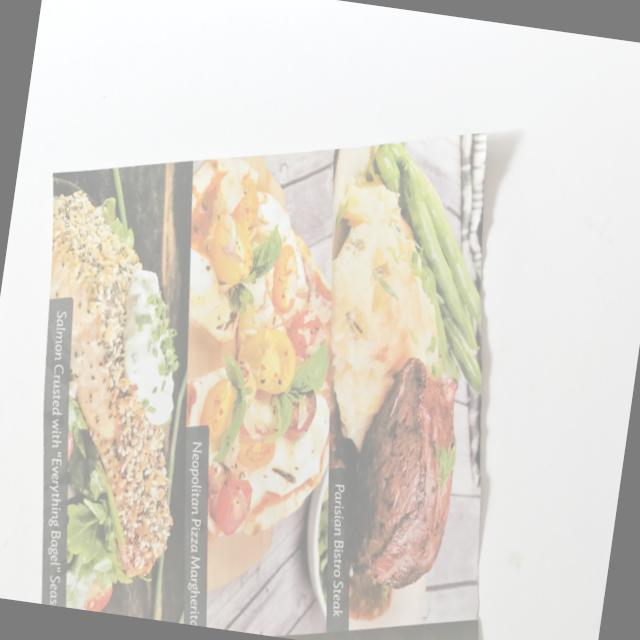Paper: (0, 42, 567, 640)
